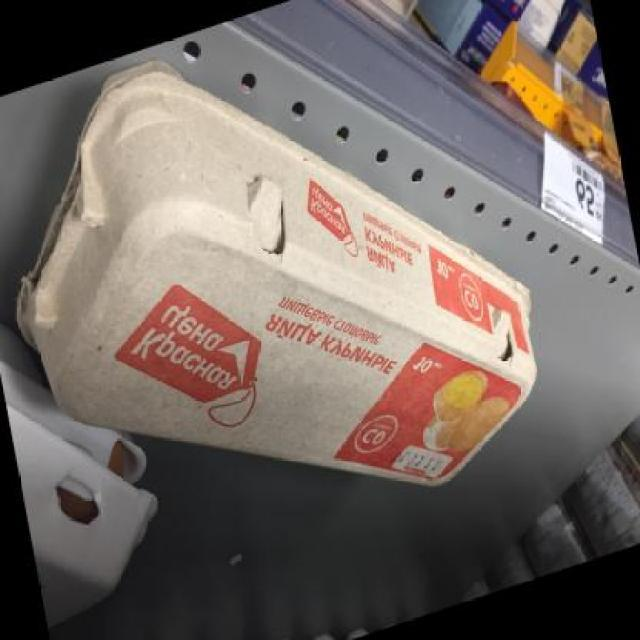egg: (0, 0, 585, 608), (386, 0, 525, 111), (421, 0, 567, 62)
